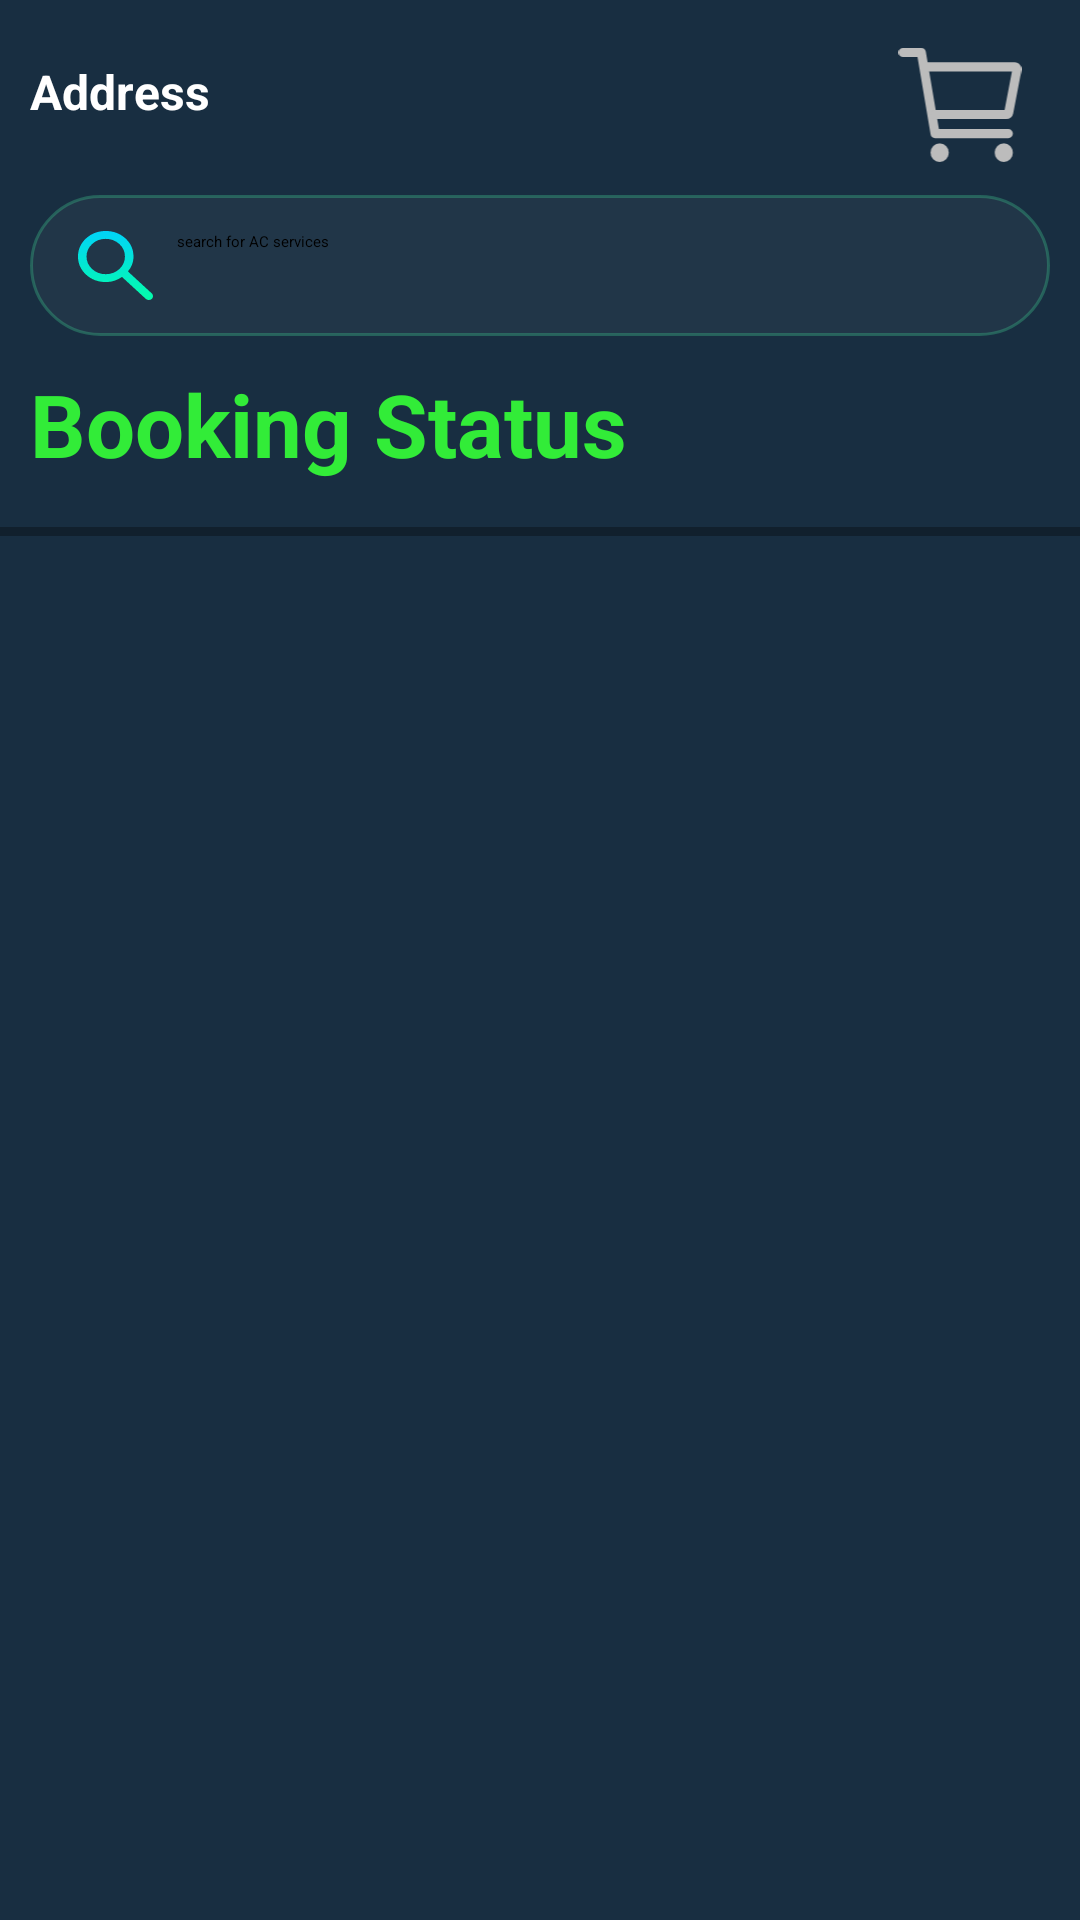

Screen size 1080x1920. Icon name, then its box in pixels as bbox=(x1, y1, x2, y2):
shopping cart: bbox=(898, 48, 1022, 162)
